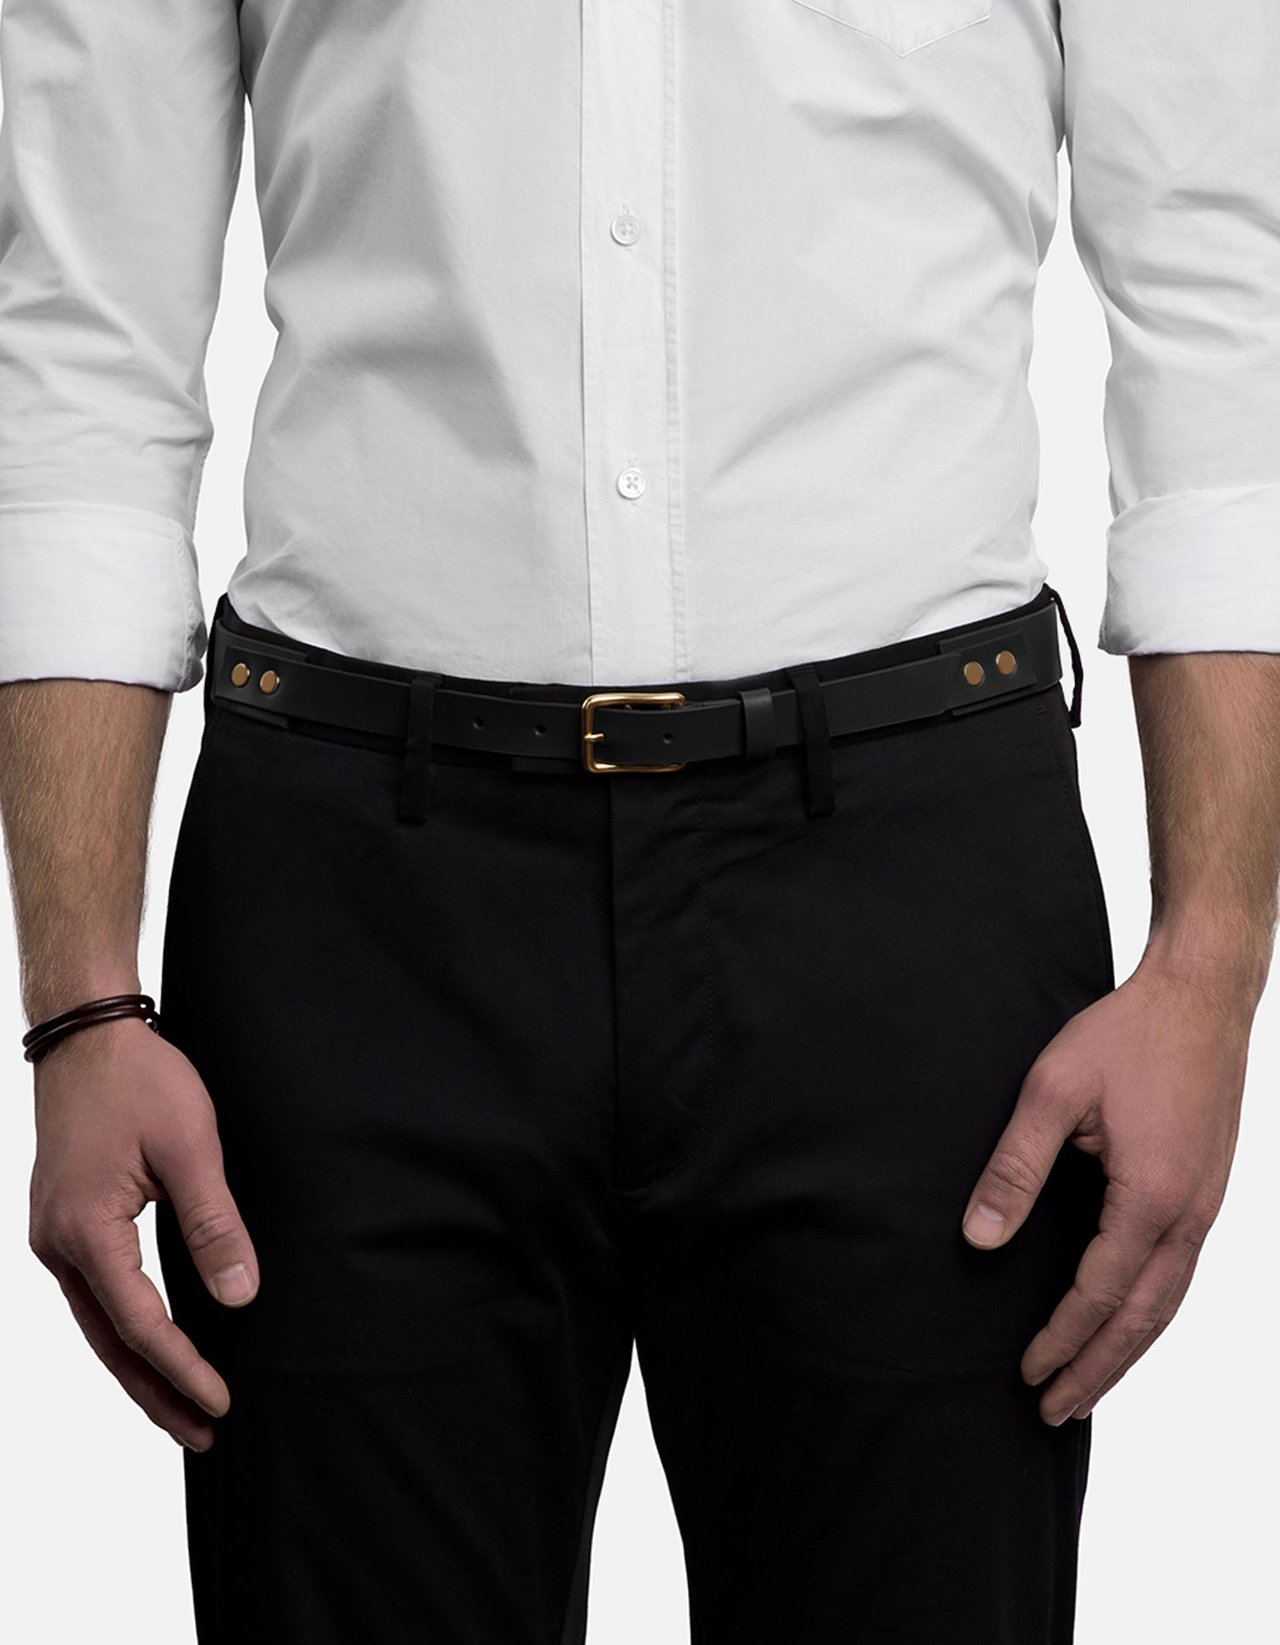F_belt: (174, 605, 1137, 773)
F_dress pants: (166, 608, 1147, 1628)
